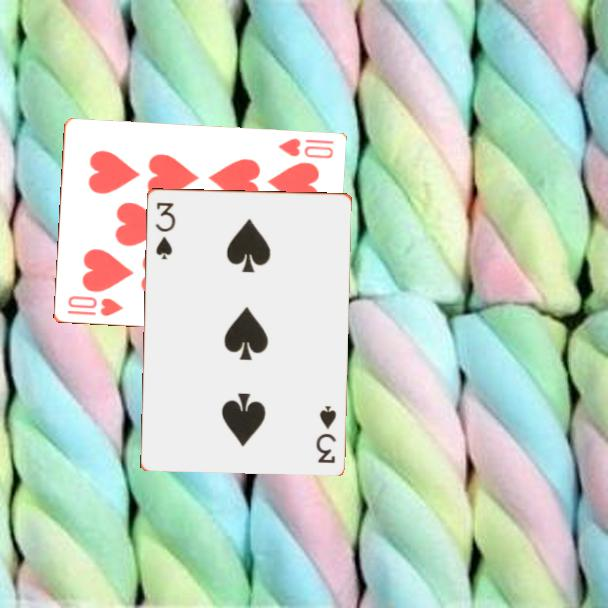h10: (275, 135, 336, 162), (64, 293, 125, 319)
s03: (313, 402, 339, 466), (152, 199, 178, 262)
